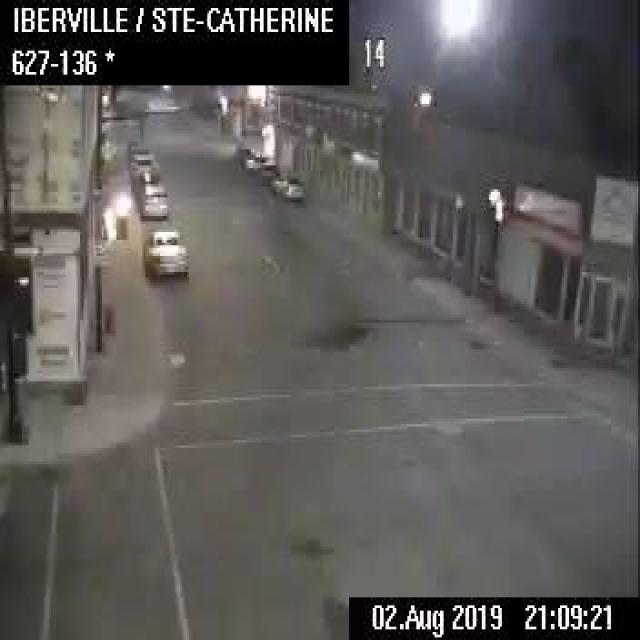vehicle: (142, 228, 187, 278), (270, 168, 303, 200), (138, 181, 166, 218), (129, 146, 159, 176), (250, 158, 278, 188), (231, 142, 261, 170), (130, 164, 157, 189)
